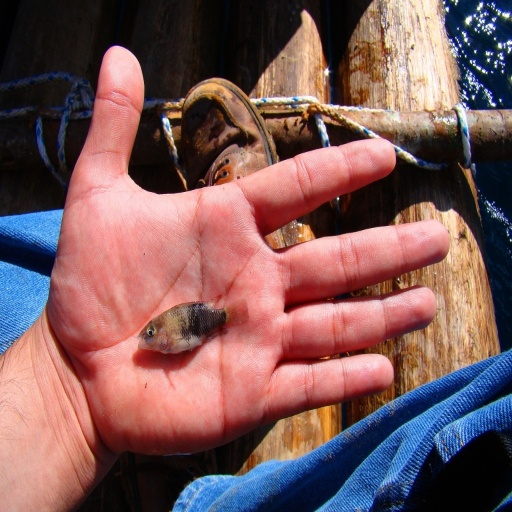hand: (46, 44, 450, 456)
